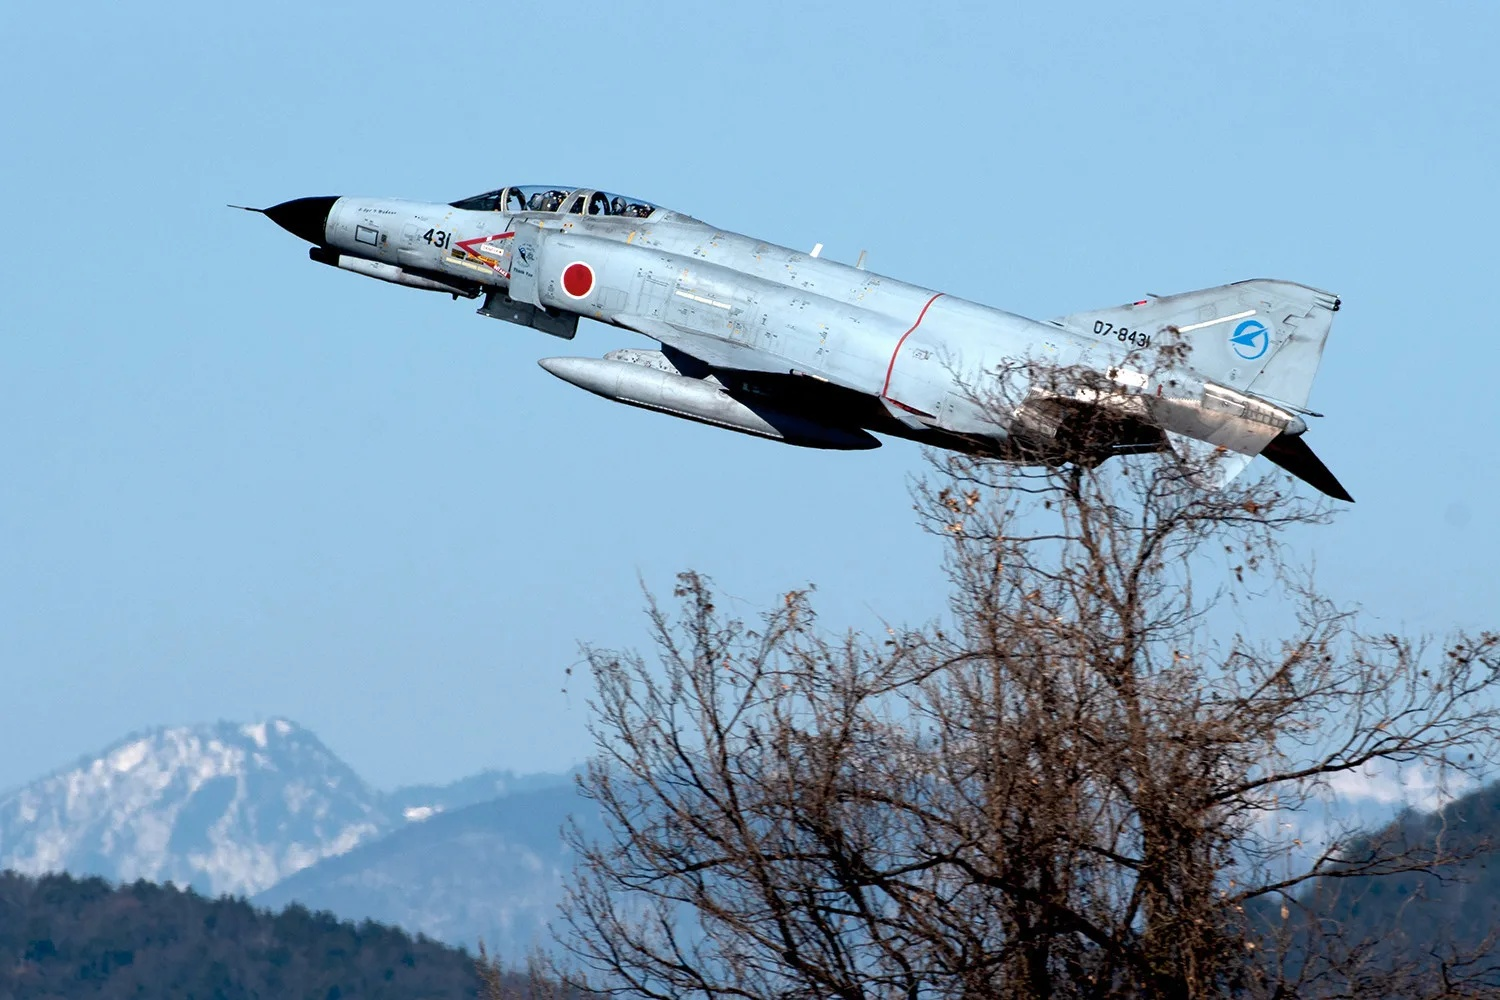F4: (225, 184, 1356, 504)
